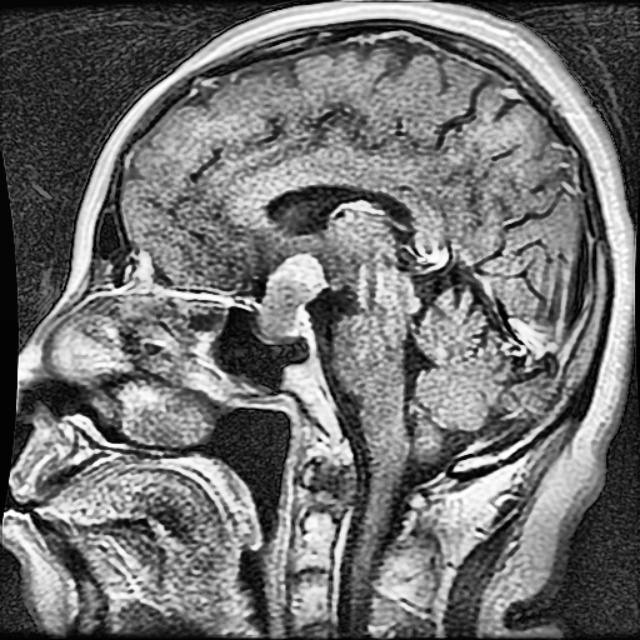Pituitary: (259, 255, 325, 339)
